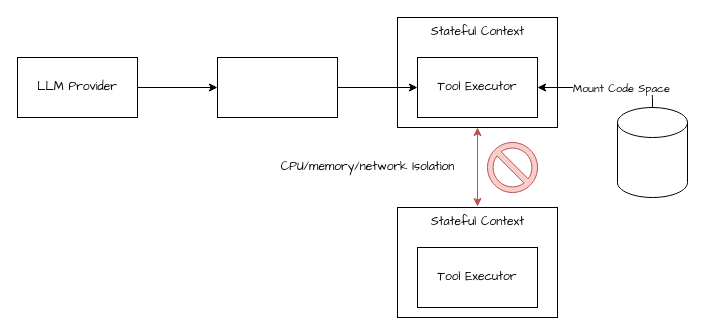
The diagram is 705 pixels wide and 335 high, and some of its shapes have lost their labels. Each missing label, with the centre of its shape:
"Client" goes at (277,87).
"Persistent Storage" goes at (652,152).
